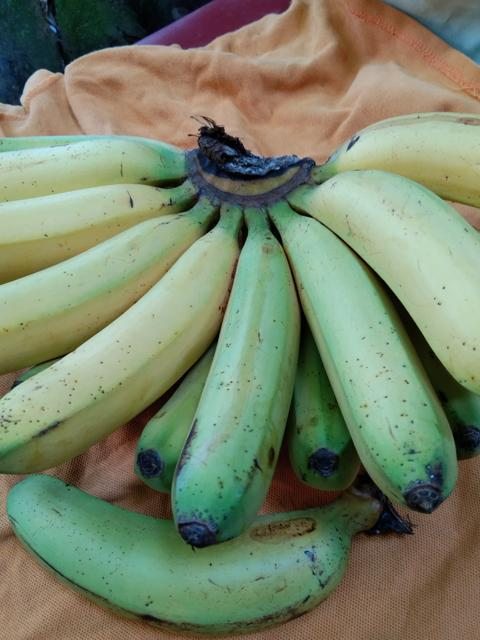ripe: (11, 474, 355, 635), (0, 257, 232, 471), (289, 225, 457, 513), (160, 231, 307, 540), (340, 109, 479, 210)
